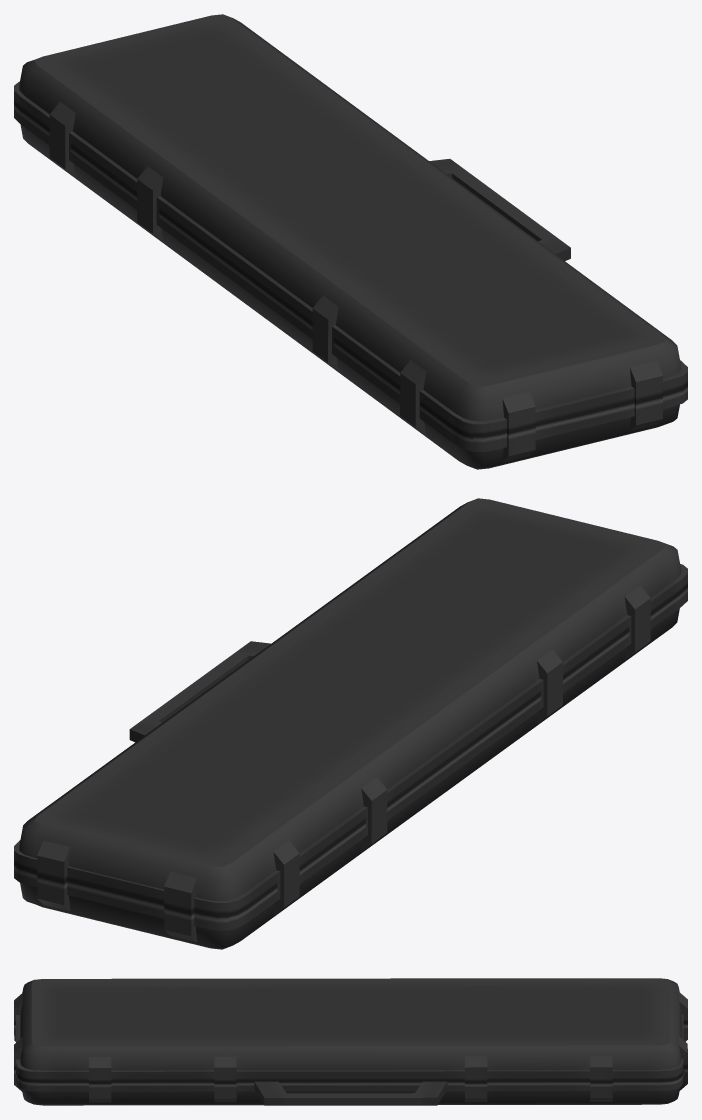
File: RifleCase_Ground.fbx
3 renders of one model, top to bottom at view 1: azimuth 30°, elevation 25°; view 2: azimuth 150°, elevation 25°; view 3: azimuth 270°, elevation 25°, orthographic. The views are drawn at different scales.
Parts seen in each view (by area): view 1: RifleCase_Ground; view 2: RifleCase_Ground; view 3: RifleCase_Ground.
Boxes of the visible parts, box(x1,y1,x2,y2) form: RifleCase_Ground: box(14, 14, 687, 469); RifleCase_Ground: box(14, 498, 687, 949); RifleCase_Ground: box(14, 978, 687, 1105).
Size of the model in its own units: 2.1 by 0.6093 by 6.19.
